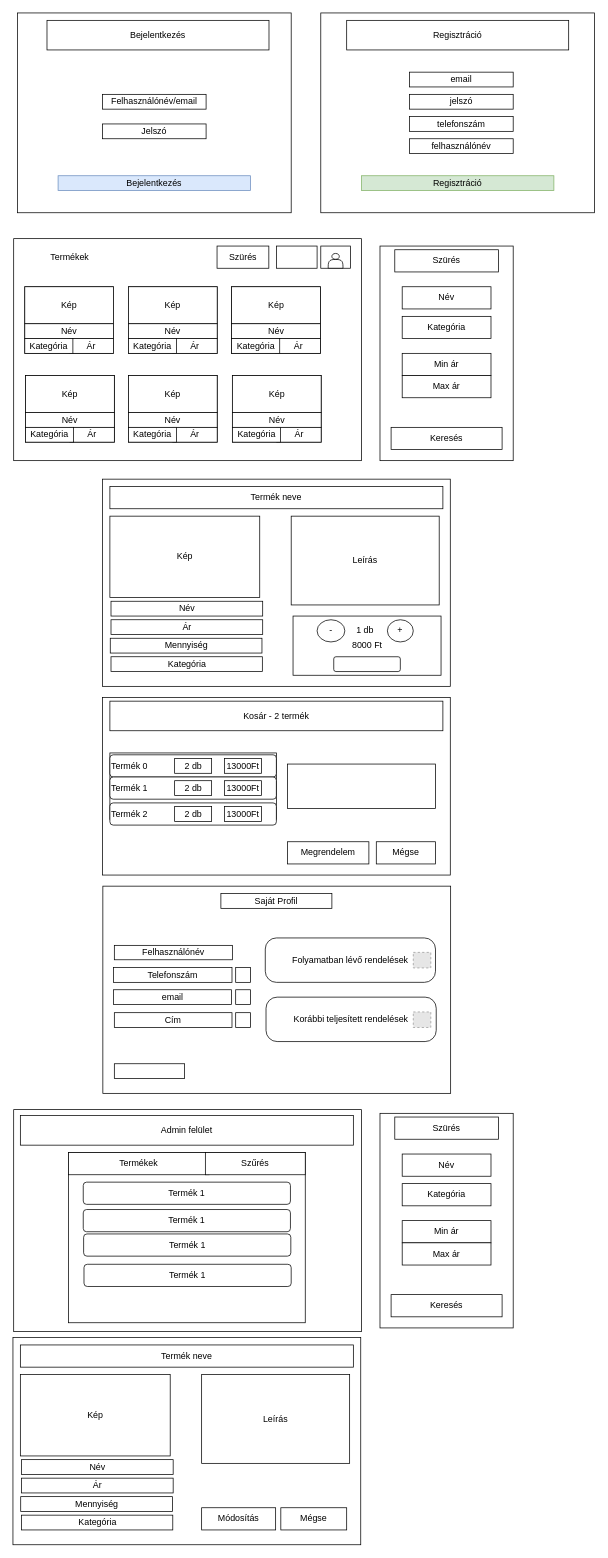
This 608x1558 diagram has some shape labels left out. Grey dashed boxes stand in for pictures. The shapes that lost their labels are listed below. From the top down, each one's centre as x and y in pixels, then its label:
At point 296,256: "Kosár".
At point 366,664: "Kosárba".
At point 361,785: "Összeg 14000 FT 3 nap".
At point 149,1071: "Jelszó módosítás".
